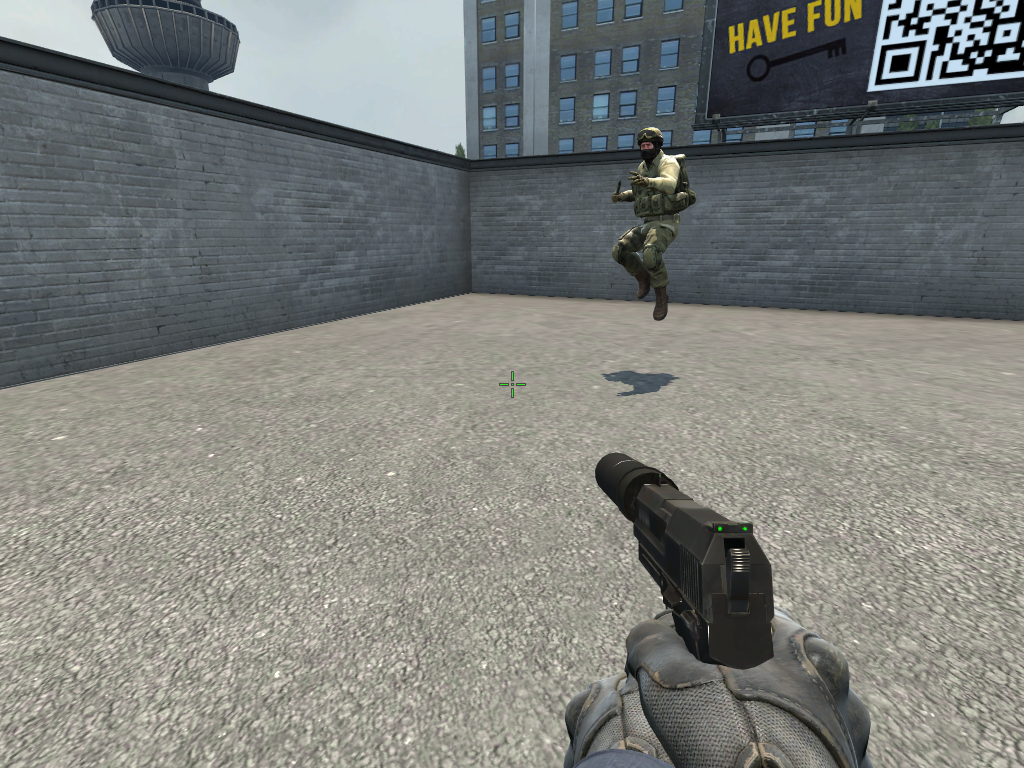ct head: (636, 122, 665, 164)
